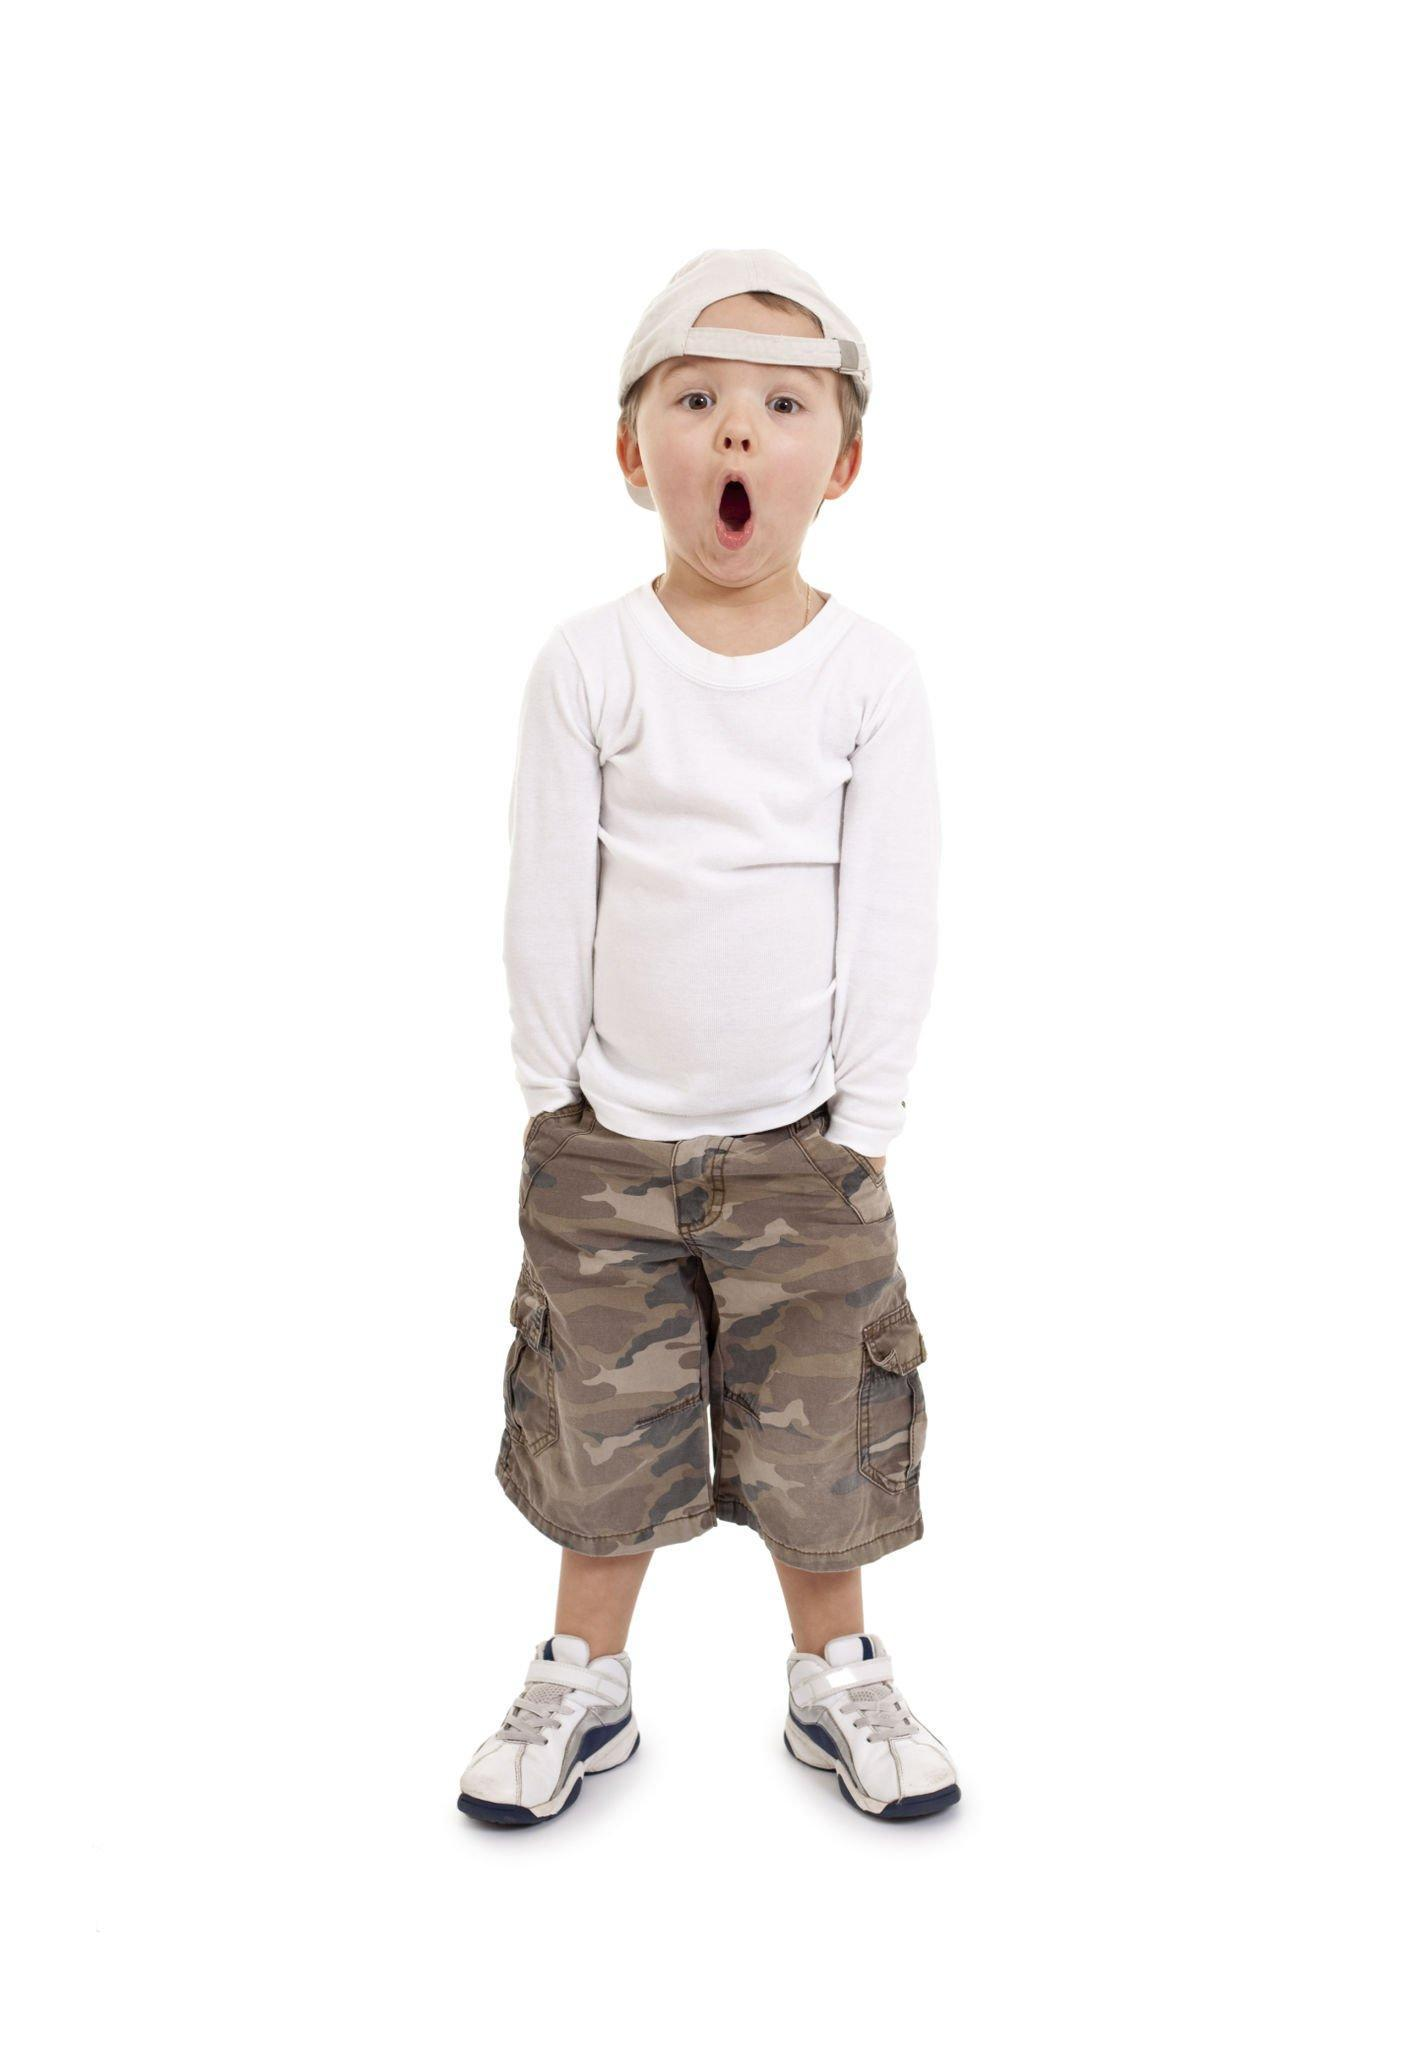Healthy: (616, 363, 879, 626)
